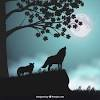Lobo: (41, 43, 73, 72), (11, 60, 36, 80)
